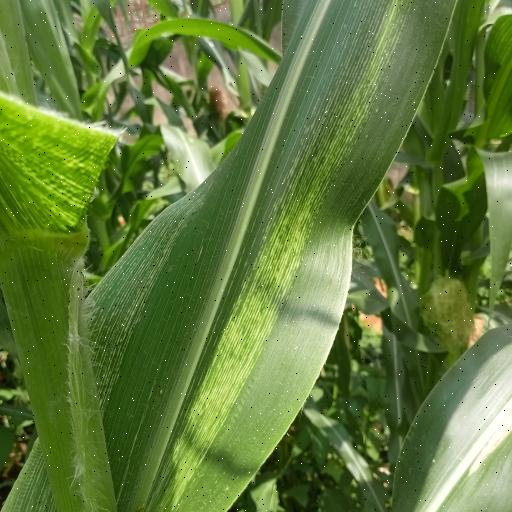Corn_Streak: (126, 0, 460, 512)
